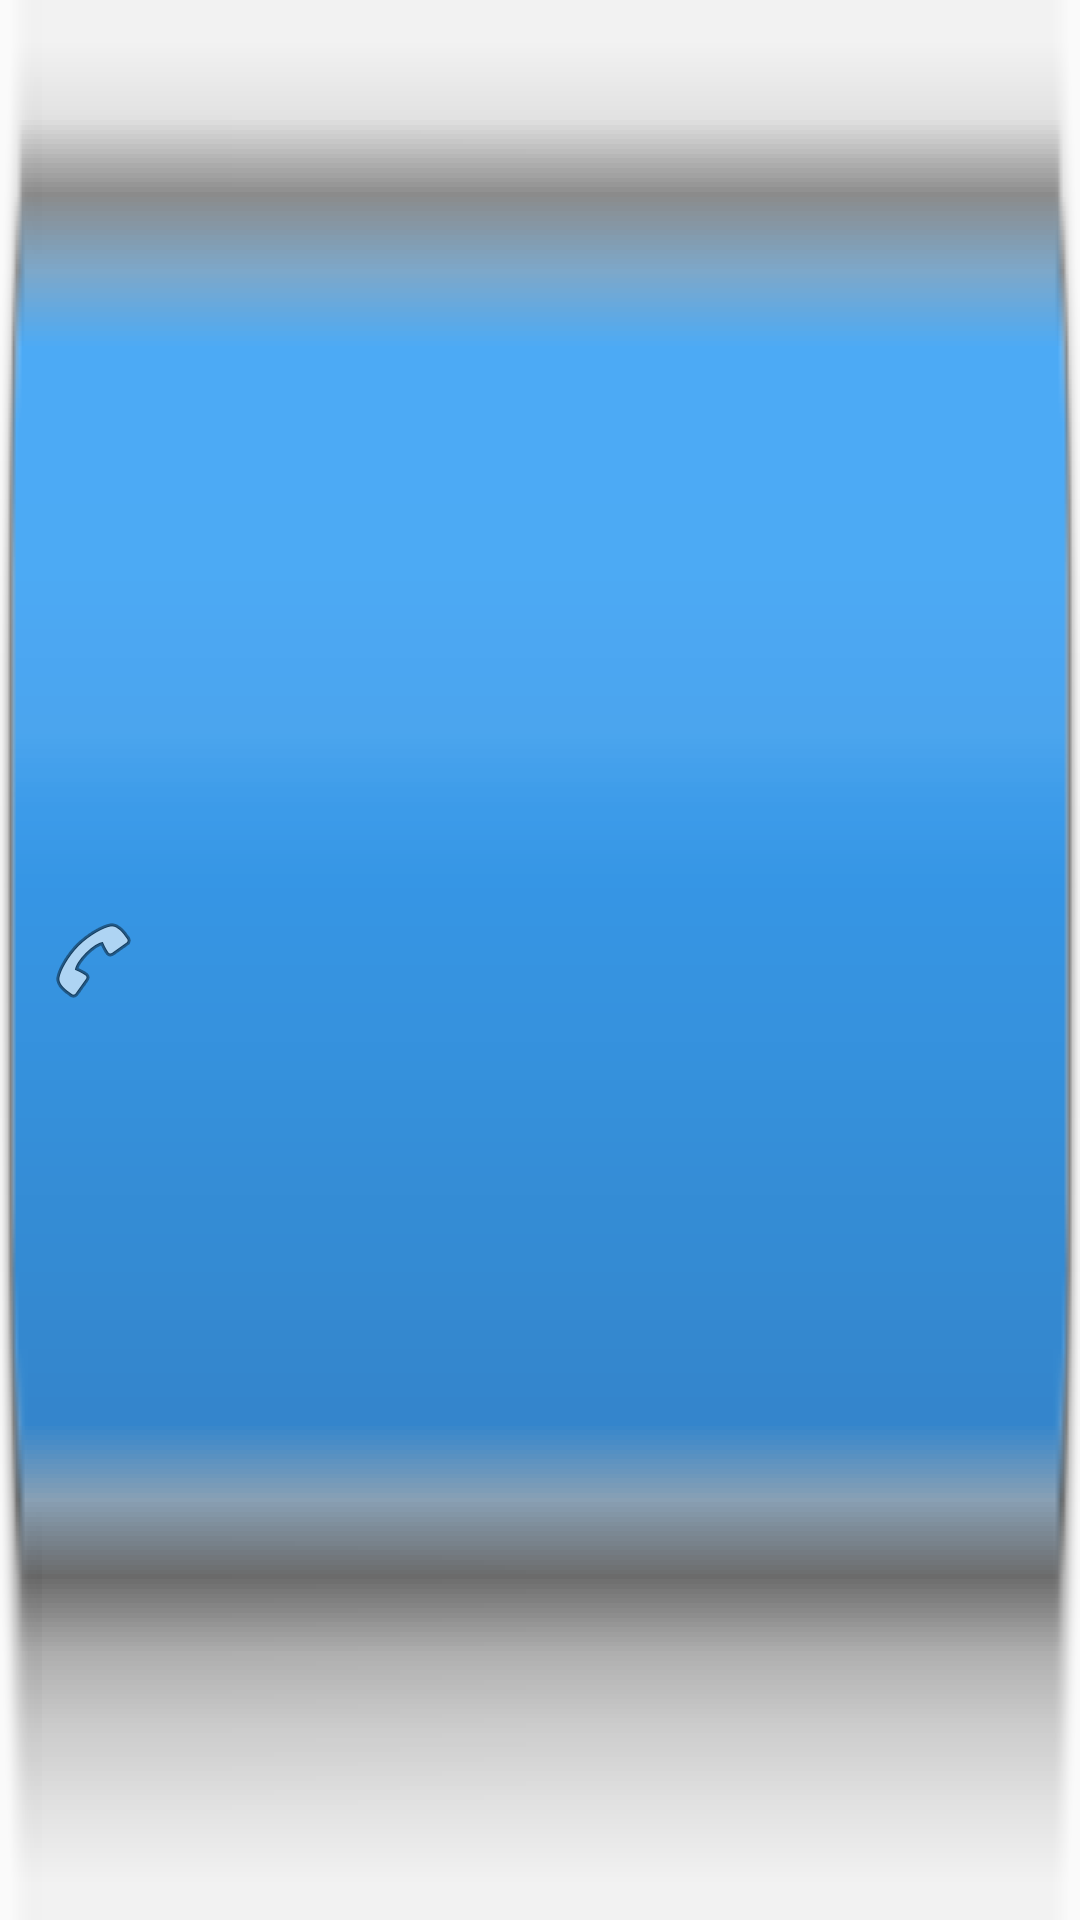

Where to tap for icons on this 1080 × 1920 app screen, as point (x, y):
call: point (93, 960)
